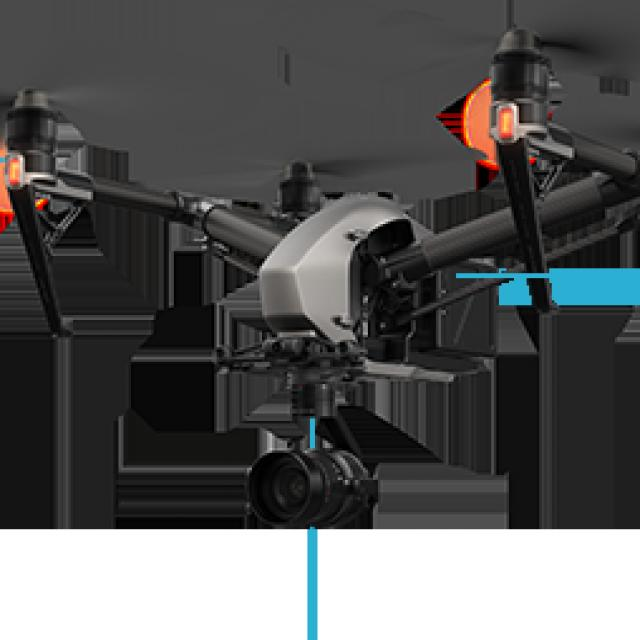drone: (0, 5, 640, 401)
